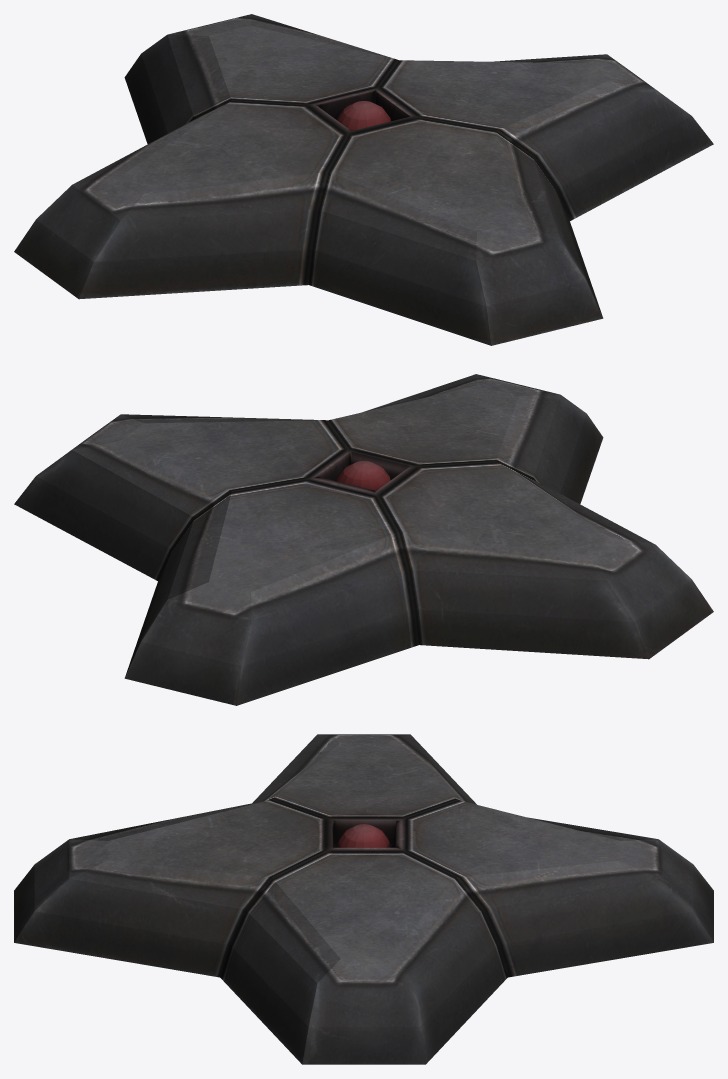
The model's file is blazing_bim.obj.
3 views of the same model, one above another, from view 1: azimuth 30°, elevation 25°; view 2: azimuth 150°, elevation 25°; view 3: azimuth 270°, elevation 25° (orthographic). The views are drawn at different scales.
Visible parts, largest first — view 1: Blazing; view 2: Blazing; view 3: Blazing.
Boxes of the visible parts, x1,y1,x2,y2 form: Blazing: (14, 14, 713, 345); Blazing: (14, 374, 713, 705); Blazing: (14, 734, 713, 1064).
Size of the model in its own units: 24.04 by 3.42 by 24.04.
